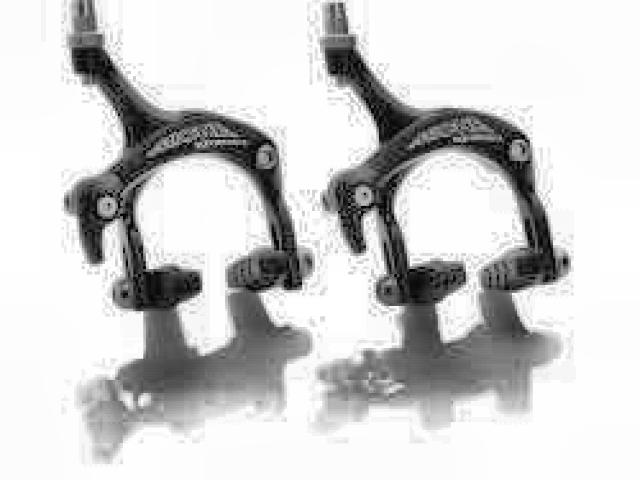rim_brake: (66, 0, 315, 321), (317, 0, 573, 311)
